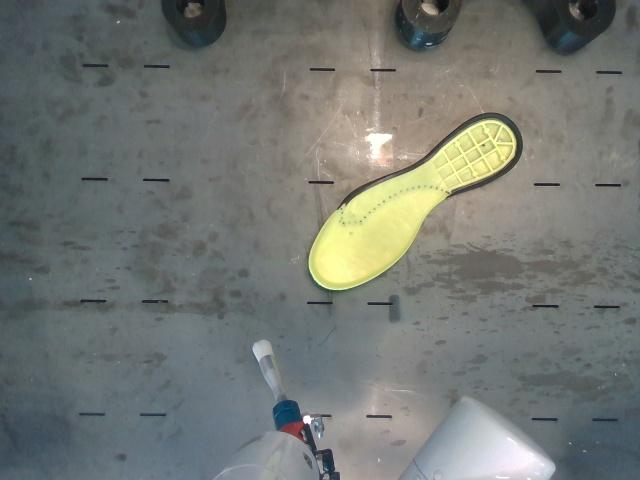shoes: (310, 115, 521, 289)
